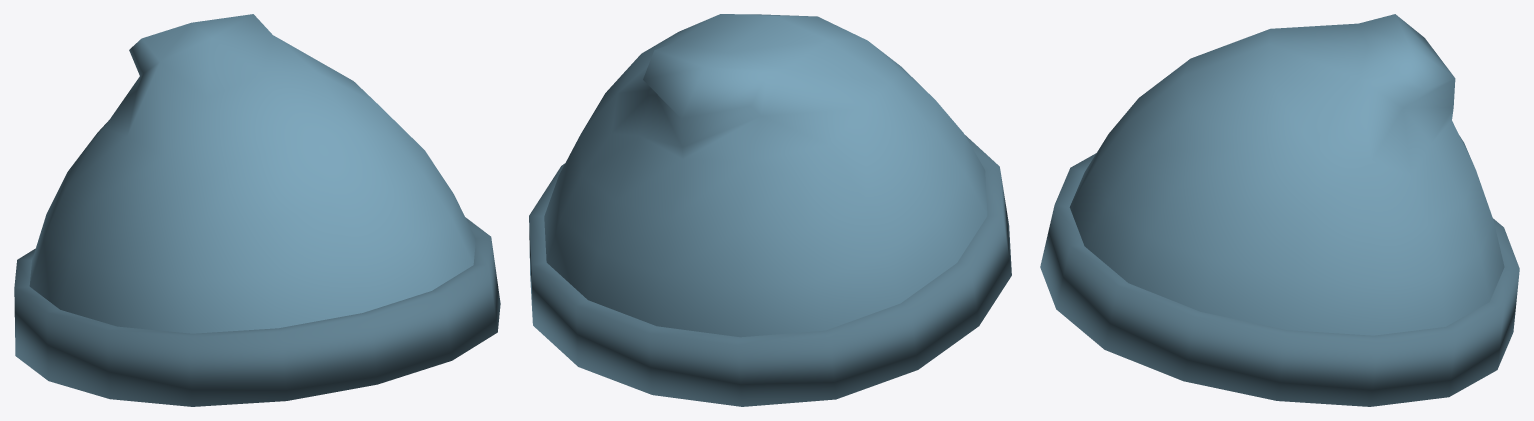
The model's file is BeanieA-Ep3.fbx.
3 renders of one model, left to right at view 1: azimuth 30°, elevation 25°; view 2: azimuth 150°, elevation 25°; view 3: azimuth 270°, elevation 25°, orthographic.
Parts seen in each view (by area): view 1: BeanieA; view 2: BeanieA; view 3: BeanieA.
Part boxes in pixels (x1,y1,x2,y2): BeanieA: (14,14,500,406); BeanieA: (529,14,1011,406); BeanieA: (1040,14,1519,406).
Bounding box in the file's own units: 499 × 335 × 500.
